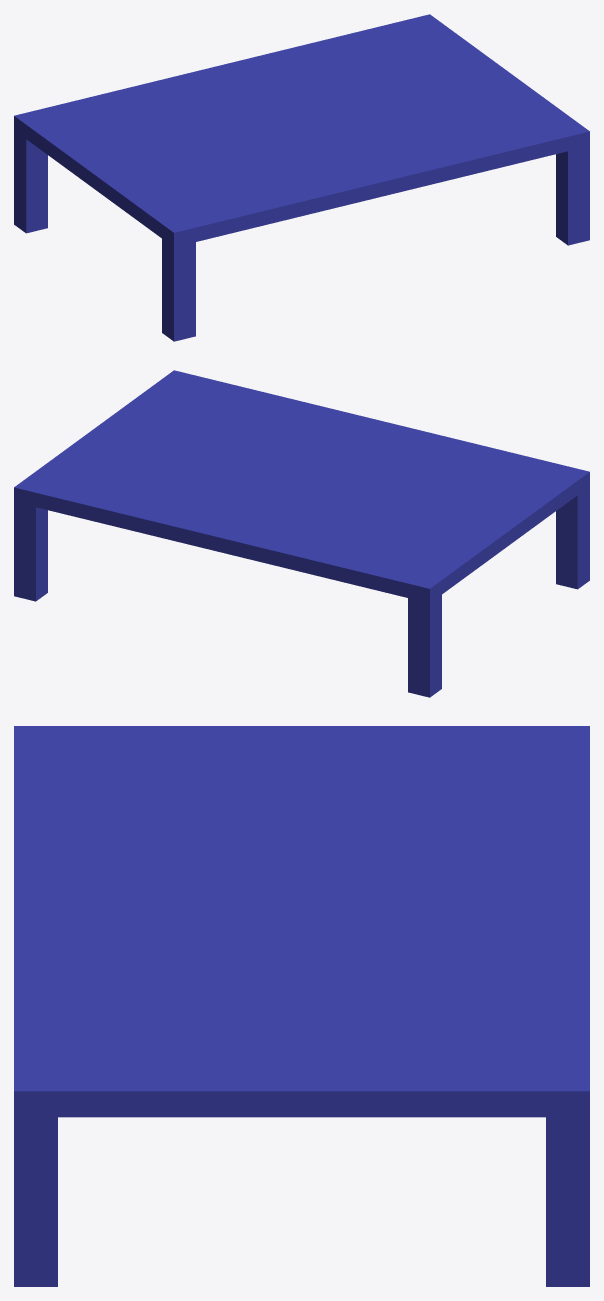
The model's file is tableDining_6x1-5x4.FBX.
The picture shows the model from 3 angles, top to bottom: view 1: azimuth 30°, elevation 25°; view 2: azimuth 150°, elevation 25°; view 3: azimuth 270°, elevation 25°; orthographic projection. The views are drawn at different scales.
Parts seen in each view (by area): view 1: tableDining_6x1.5x4; view 2: tableDining_6x1.5x4; view 3: tableDining_6x1.5x4.
Part boxes in pixels (x1,y1,x2,y2): tableDining_6x1.5x4: [14, 14, 589, 341]; tableDining_6x1.5x4: [14, 370, 589, 697]; tableDining_6x1.5x4: [14, 726, 589, 1286].
Bounding box in the file's own units: 6 × 1.5 × 4.
